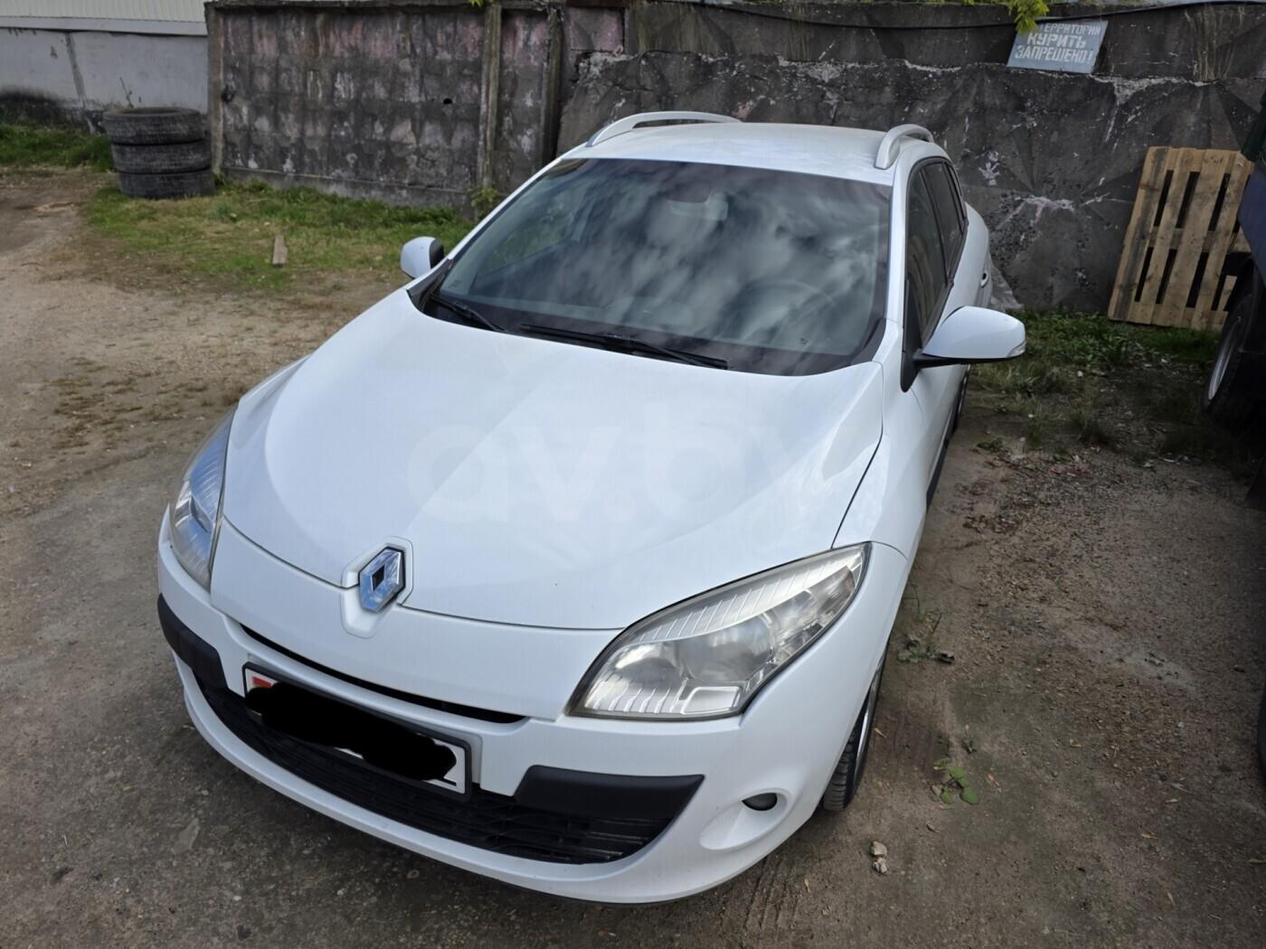Megane_2008-2014: (147, 106, 1012, 901)
